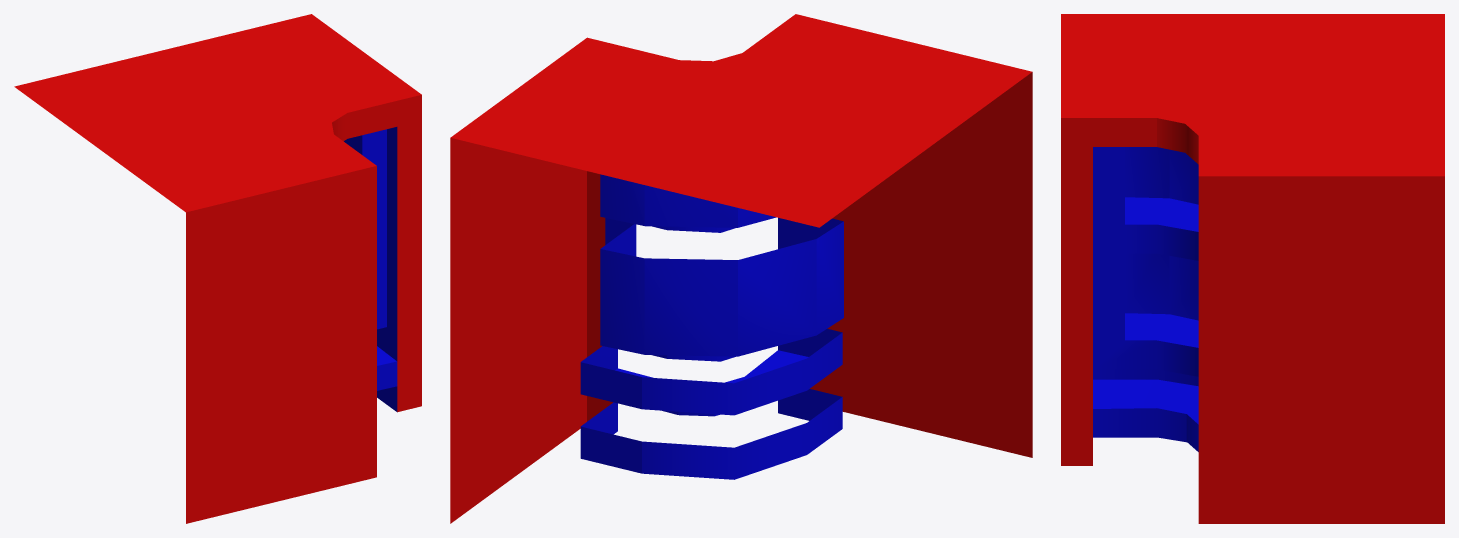
The model's file is Küchentheke_1_ecke_low.fbx.
3 renders of one model, left to right at view 1: azimuth 30°, elevation 25°; view 2: azimuth 150°, elevation 25°; view 3: azimuth 270°, elevation 25°, orthographic. The views are drawn at different scales.
Parts seen in each view (by area): view 1: Küchentheke_1_ecke_low; view 2: Küchentheke_1_ecke_low; view 3: Küchentheke_1_ecke_low.
Boxes of the visible parts, left/top/right/bottom form: Küchentheke_1_ecke_low: left=14, top=14, right=421, bottom=523; Küchentheke_1_ecke_low: left=450, top=14, right=1032, bottom=523; Küchentheke_1_ecke_low: left=1061, top=14, right=1444, bottom=523.
Bounding box in the file's own units: 1 × 1 × 1.
